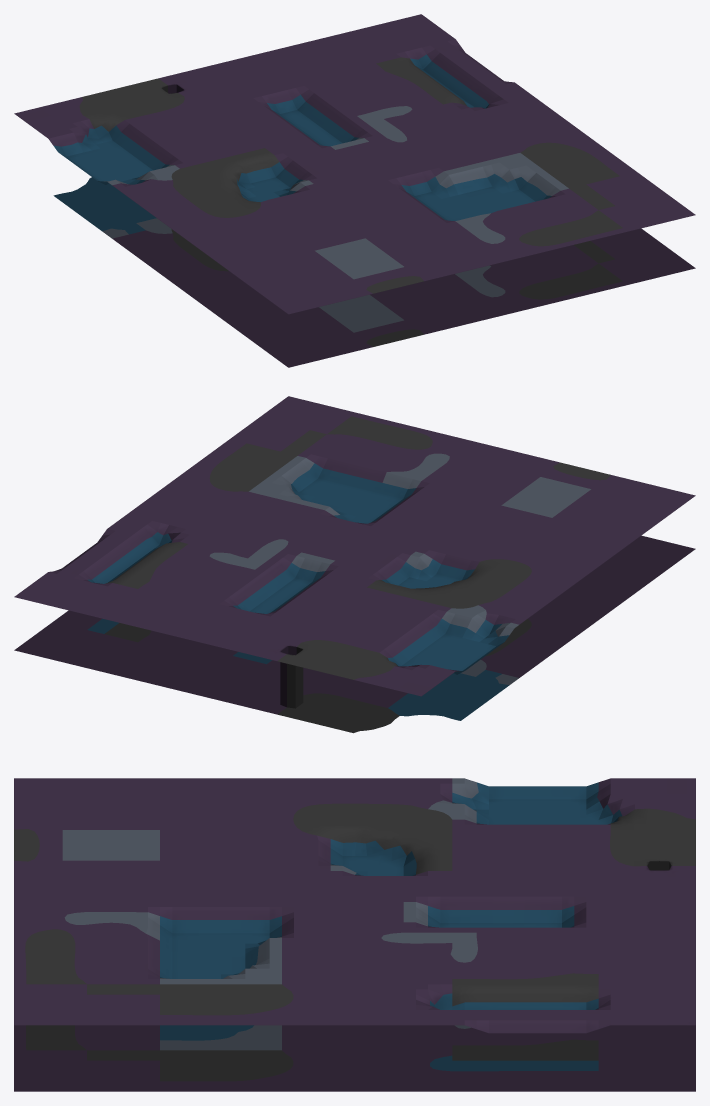
The model's file is delbld-hull-561.glb.
3 views of the same model, one above another, from view 1: azimuth 30°, elevation 25°; view 2: azimuth 150°, elevation 25°; view 3: azimuth 270°, elevation 25° (orthographic). The views are drawn at different scales.
Parts seen in each view (by area): view 1: delbld-hull-561; view 2: delbld-hull-561; view 3: delbld-hull-561.
Boxes of the visible parts, <box> form: delbld-hull-561: <box>14,14,695,367</box>; delbld-hull-561: <box>14,396,695,733</box>; delbld-hull-561: <box>14,778,695,1091</box>.
Size of the model in its own units: 2 by 0.25 by 2.33.
Materials: 4 (4 with a texture image).
